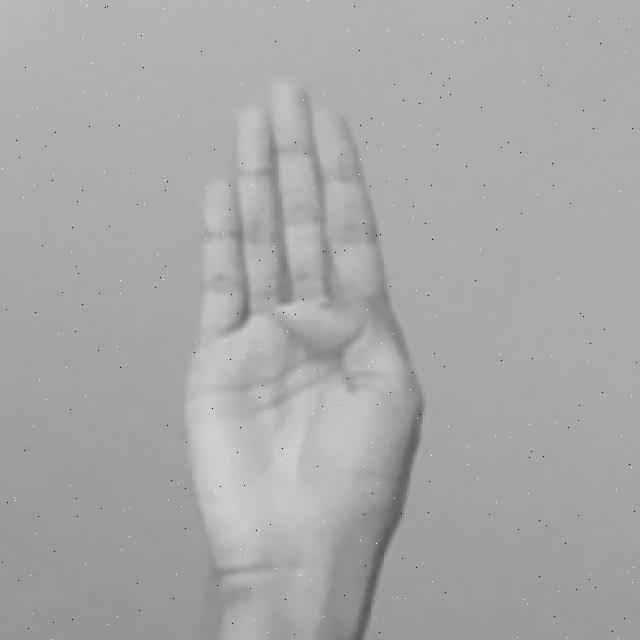B: (172, 76, 425, 640)
